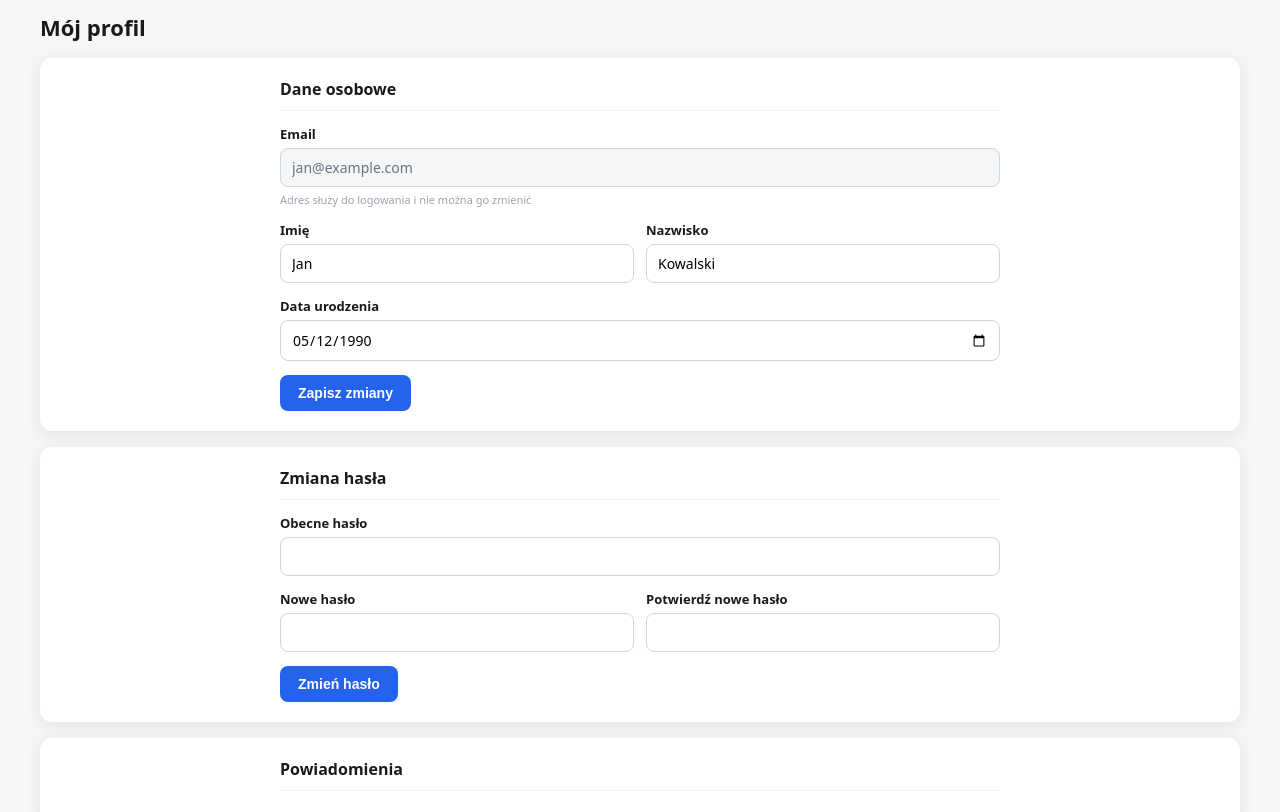
Test: ProfilePage › odrzuca zbyt krótkie imię
The width and height of the screenshot is (1280, 812).
Replace the text in the field labelled "Imię" with "J" at point(457, 264), box [280,244,634,283]
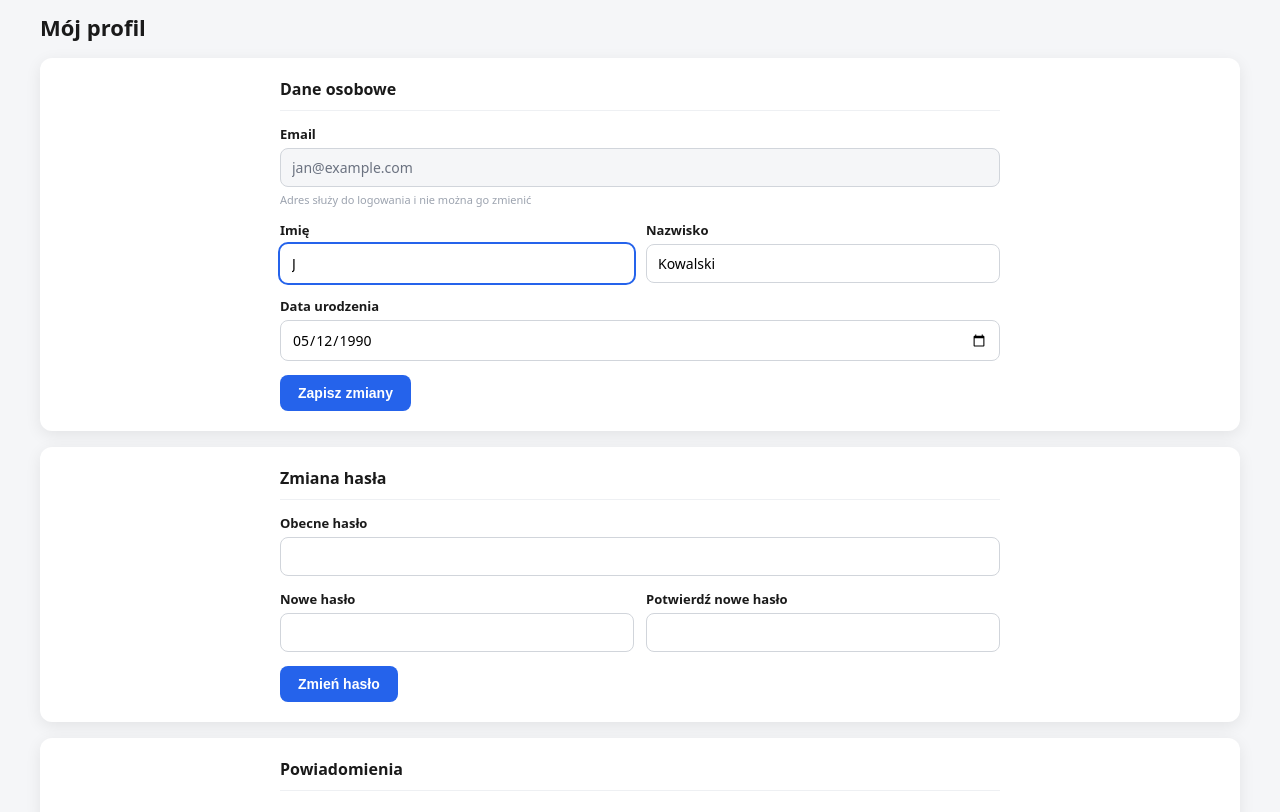
Click the button "Zapisz zmiany".
click(345, 393)  # box [280,375,411,411]
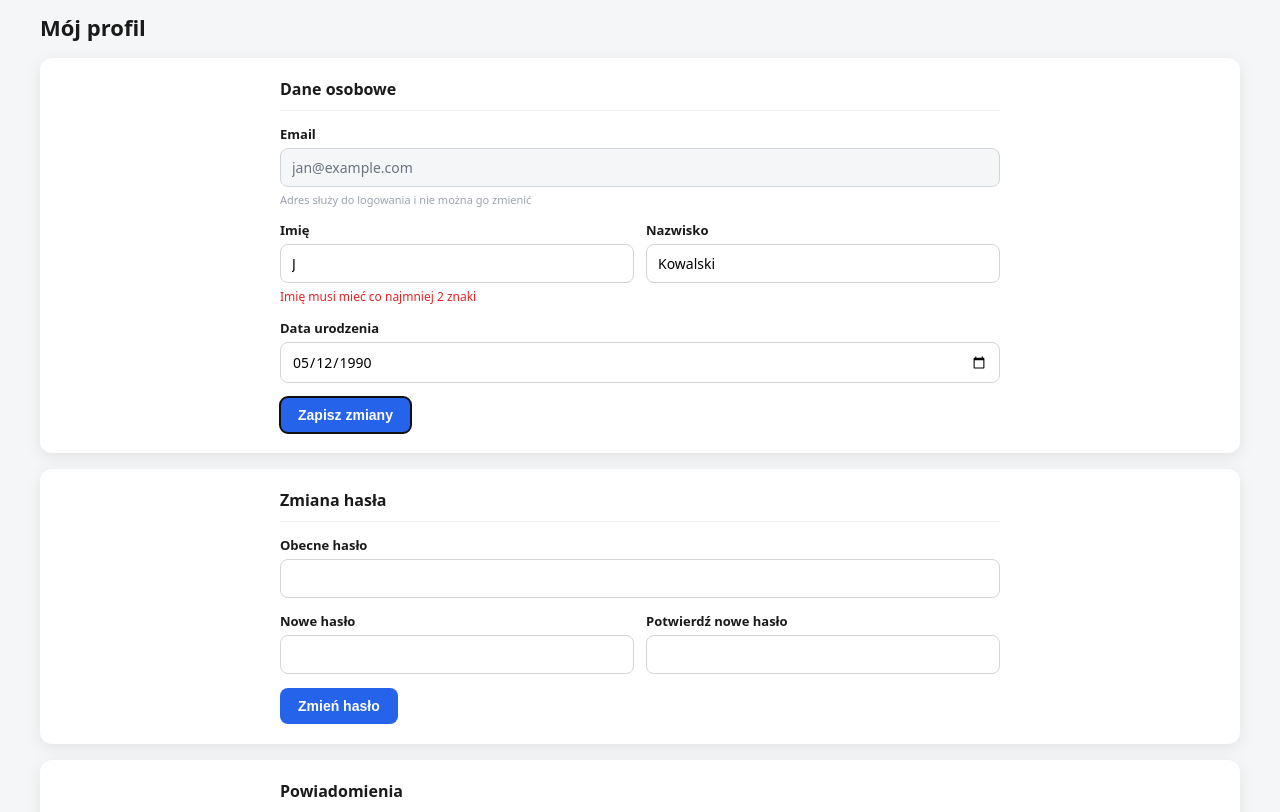
Expected: the text "Imię musi mieć co najmniej 2 znaki" is shown, [280,288,476,305]
